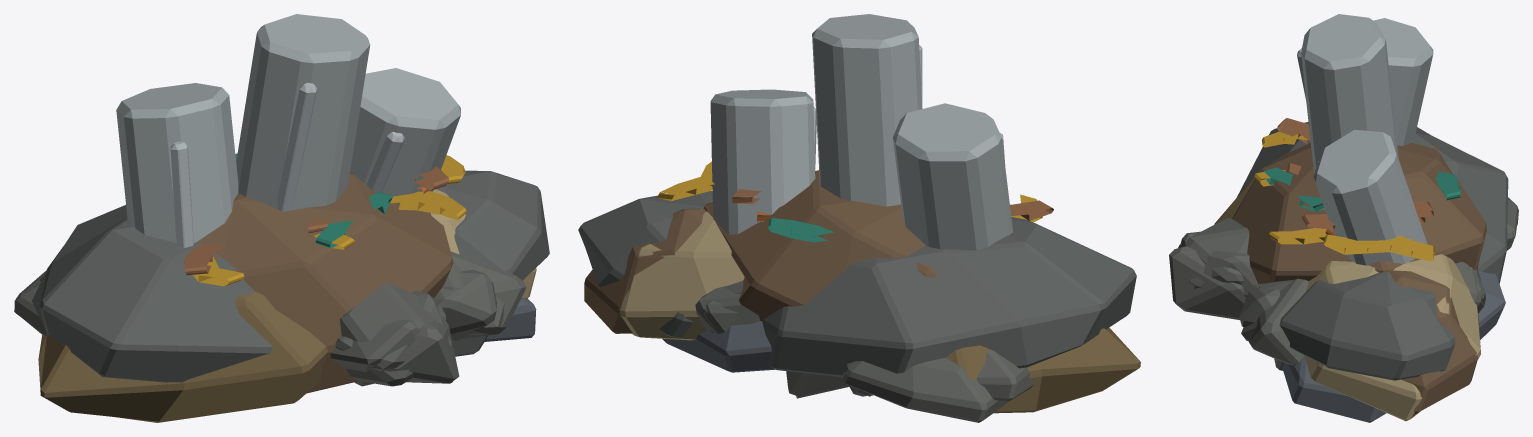
Rendered from mineable_geology_kit_v1.glb.
The picture shows the model from 3 angles, left to right: view 1: azimuth 30°, elevation 25°; view 2: azimuth 150°, elevation 25°; view 3: azimuth 270°, elevation 25°; orthographic projection. The views are drawn at different scales.
Parts seen in each view (by area): view 1: SilverOutcropIntact, IronOutcropIntact, CopperOutcropIntact, GoldOutcropIntact, GoldOutcropDepleted, SilverOutcropDepleted, IronOutcropDepleted, CopperOutcropDepleted; view 2: SilverOutcropIntact, IronOutcropIntact, CopperOutcropIntact, GoldOutcropIntact, SilverOutcropDepleted, CopperOutcropDepleted; view 3: SilverOutcropIntact, IronOutcropIntact, CopperOutcropIntact, GoldOutcropIntact, GoldOutcropDepleted, IronOutcropDepleted, SilverOutcropDepleted, CopperOutcropDepleted.
Part boxes in pixels (x1,y1,x2,y2): SilverOutcropIntact: (116,14,536,341); IronOutcropIntact: (14,166,549,382); CopperOutcropIntact: (14,153,453,393); GoldOutcropIntact: (38,155,536,422); GoldOutcropDepleted: (339,251,526,371); SilverOutcropDepleted: (335,269,496,386); IronOutcropDepleted: (386,262,463,383); CopperOutcropDepleted: (330,297,504,386); SilverOutcropIntact: (662,14,1013,372); IronOutcropIntact: (578,189,1136,401); CopperOutcropIntact: (584,170,1007,422); GoldOutcropIntact: (618,161,1140,413); SilverOutcropDepleted: (695,280,870,398); CopperOutcropDepleted: (704,300,739,333); SilverOutcropIntact: (1282,14,1505,422); IronOutcropIntact: (1237,118,1508,380); CopperOutcropIntact: (1232,143,1518,413); GoldOutcropIntact: (1214,131,1480,421); GoldOutcropDepleted: (1178,218,1480,365); IronOutcropDepleted: (1169,246,1294,319); SilverOutcropDepleted: (1189,251,1484,327); CopperOutcropDepleted: (1180,231,1485,341).
Size of the model in its own units: 3 by 1.84 by 1.94.
